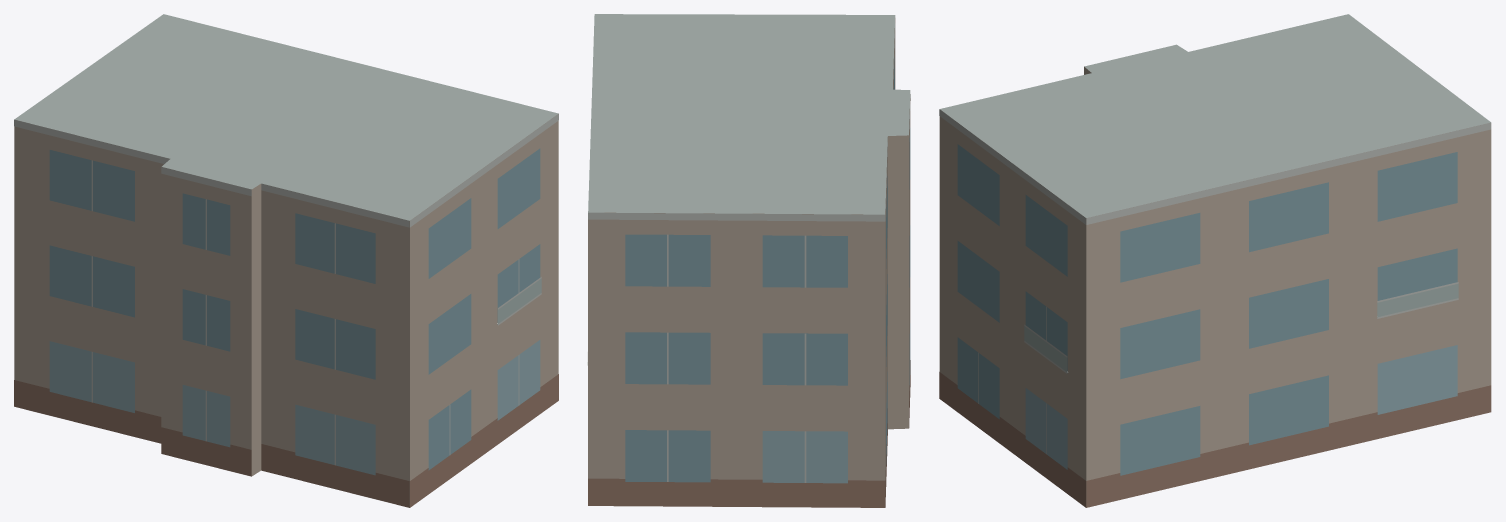
File: survey-upis-32714494.glb
3 renders of one model, left to right at view 1: azimuth 30°, elevation 25°; view 2: azimuth 150°, elevation 25°; view 3: azimuth 270°, elevation 25°, orthographic. The views are drawn at different scales.
Visible parts, largest first — view 1: survey-upis-32714494.tmp; view 2: survey-upis-32714494.tmp; view 3: survey-upis-32714494.tmp.
Boxes of the visible parts, x1,y1,x2,y2 form: survey-upis-32714494.tmp: (14, 14, 558, 507); survey-upis-32714494.tmp: (587, 14, 910, 507); survey-upis-32714494.tmp: (939, 14, 1491, 507).
Size of the model in its own units: 15.43 by 10.2 by 17.62.
